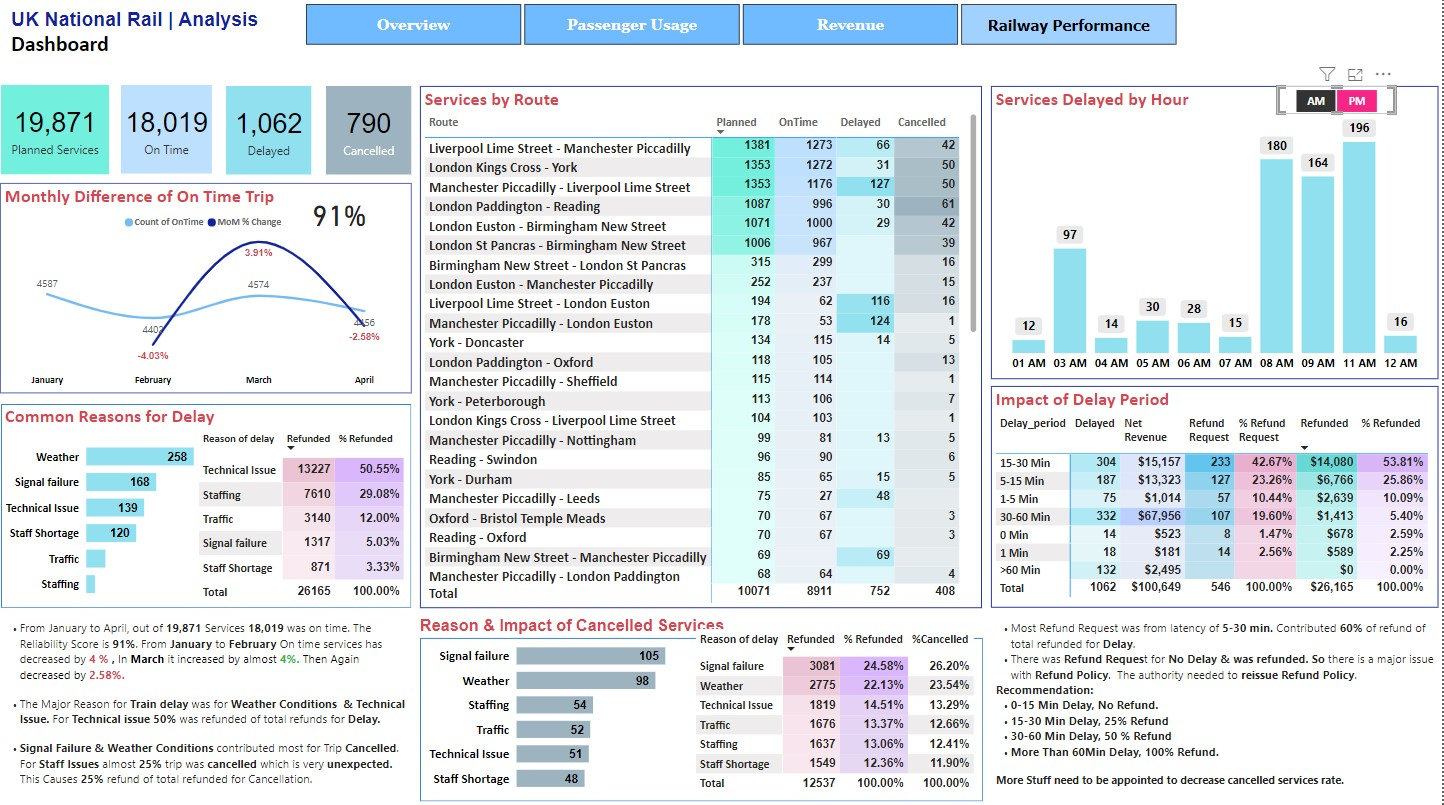

This screenshot's page, from the dashboard's own definition file:
{"tool":"powerbi","page":{"name":"Railway Performance","canvas":[1780,1000],"ordinal":3},"visuals":[{"type":"shape","box":[6.8,500,505.4,251.4],"z":0},{"type":"shape","title":"Reason & Impact of Cancelled Services","box":[521.6,760.8,693.2,228.4],"z":1000},{"type":"pageNavigator","title":"Uk Rail Dashboard","box":[381.8,7.4,1073.9,50.5],"z":2000},{"type":"textbox","box":[13.5,7.4,325.1,81.3],"z":3000},{"type":"card","fields":{"Values":["CountNonNull(railway(distinct).railway_Route)"]},"box":[5.5,106.7,133.1,109.5],"z":4000},{"type":"card","fields":{"Values":["CountNonNull(railway_distinct.OnTime)"]},"box":[154.1,106.8,112.2,109.5],"z":5000},{"type":"card","fields":{"Values":["CountNonNull(railway_distinct.delayed)"]},"box":[283.8,108.1,105.4,109.5],"z":6000},{"type":"card","fields":{"Values":["CountNonNull(railway_distinct.cancelled)"]},"box":[406.8,108.1,105.4,109.5],"z":7000},{"type":"lineChart","title":"Monthly Difference of On Time Trip","fields":{"Y2":["railway_distinct.Count of OnTime MoM%"],"Y":["CountNonNull(railway_distinct.OnTime)"],"Category":["railway_distinct.railway_Date of Journey.Variation.Date Hierarchy.Month"]},"box":[5.4,228.4,506.8,259.5],"z":8000},{"type":"barChart","title":"Common Reasons for Delay","fields":{"Y":["CountNonNull(railway_distinct.delayed)"],"Category":["railway_distinct.Reason for delay"]},"box":[6.8,500,273,251.4],"z":9000},{"type":"columnChart","title":"Services Delayed by Hour","fields":{"Category":["railway_distinct.railway_NormalizedHour"],"Y":["CountNonNull(railway_distinct.delayed)"]},"box":[1225.7,108.1,551.4,360.8],"z":10000},{"type":"slicer","fields":{"Values":["railway_distinct.railway_TimePeriod"]},"box":[1577.6,108.1,146.9,34.7],"z":11000},{"type":"pivotTable","title":"Services by Route","fields":{"Rows":["railway_distinct.railway_Route"],"Values":["CountNonNull(railway_distinct.railway_Route)","CountNonNull(railway_distinct.OnTime)","CountNonNull(railway_distinct.delayed)","CountNonNull(railway_distinct.cancelled)"]},"box":[521.6,108.1,691.9,643.2],"z":12000},{"type":"pivotTable","title":"Impact of Delay Period","fields":{"Values":["Count(railway.Delayed)","Sum(railway.Net Revenue)","CountNonNull(railway.Refund_yes)","Sum(railway.Refund_yes)1","Sum(railway.Refunded)","Divide(Sum(railway.Refunded), ScopedEval(Sum(railway.Refunded), []))"],"Rows":["railway.Delay_period"]},"box":[1225.7,478.4,551.4,273],"z":13000},{"type":"barChart","title":"Common Reasons for Cancelled Trips","fields":{"Y":["CountNonNull(railway_distinct.cancelled)"],"Category":["railway_distinct.Reason for delay"]},"box":[527,774.3,340.5,214.9],"z":14000},{"type":"textbox","box":[6.8,760.8,505.4,232.4],"z":15000},{"type":"card","fields":{"Values":["railway_distinct.OnTime Relaibility Score"]},"box":[382.4,240.5,79.7,48.6],"z":16000},{"type":"pivotTable","fields":{"Rows":["railway.Reason of delay"],"Values":["Sum(railway.Refund_Cancelled)","Divide(Sum(railway.Refund_Cancelled), ScopedEval(Sum(railway.Refund_Cancelled), []))","railway.cancelled"]},"box":[856.8,771.6,356.8,214.9],"z":17000},{"type":"textbox","box":[1226,761,551,228],"z":18000},{"type":"pivotTable","fields":{"Rows":["railway.Reason of delay"],"Values":["Sum(railway.Refund_delayed)","Divide(Sum(railway.Refund_delayed), ScopedEval(Sum(railway.Refund_delayed), []))"]},"box":[244.6,523,267.6,228.4],"z":19000}]}

Visuals, with their boxes in screenshot pixels (x1, y1, x2, y2), scaled from the page's 1780x1000 canvas onto the 1444x805 screenshot:
shape: rect(6, 402, 416, 605)
"Reason & Impact of Cancelled Services" shape: rect(423, 612, 985, 796)
"Uk Rail Dashboard" pageNavigator: rect(310, 6, 1181, 47)
textbox: rect(11, 6, 275, 71)
card - CountNonNull(railway(distinct).railway_Route): rect(4, 86, 112, 174)
card - CountNonNull(railway_distinct.OnTime): rect(125, 86, 216, 174)
card - CountNonNull(railway_distinct.delayed): rect(230, 87, 316, 175)
card - CountNonNull(railway_distinct.cancelled): rect(330, 87, 416, 175)
"Monthly Difference of On Time Trip" lineChart: rect(4, 184, 416, 393)
"Common Reasons for Delay" barChart: rect(6, 402, 227, 605)
"Services Delayed by Hour" columnChart: rect(994, 87, 1442, 377)
slicer - railway_distinct.railway_TimePeriod: rect(1280, 87, 1399, 115)
"Services by Route" pivotTable: rect(423, 87, 984, 605)
"Impact of Delay Period" pivotTable: rect(994, 385, 1442, 605)
"Common Reasons for Cancelled Trips" barChart: rect(428, 623, 704, 796)
textbox: rect(6, 612, 416, 800)
card - railway_distinct.OnTime Relaibility Score: rect(310, 194, 375, 233)
pivotTable - railway.Reason of delay x Sum(railway.Refund_Cancelled): rect(695, 621, 985, 794)
textbox: rect(995, 613, 1442, 796)
pivotTable - railway.Reason of delay x Sum(railway.Refund_delayed): rect(198, 421, 416, 605)
